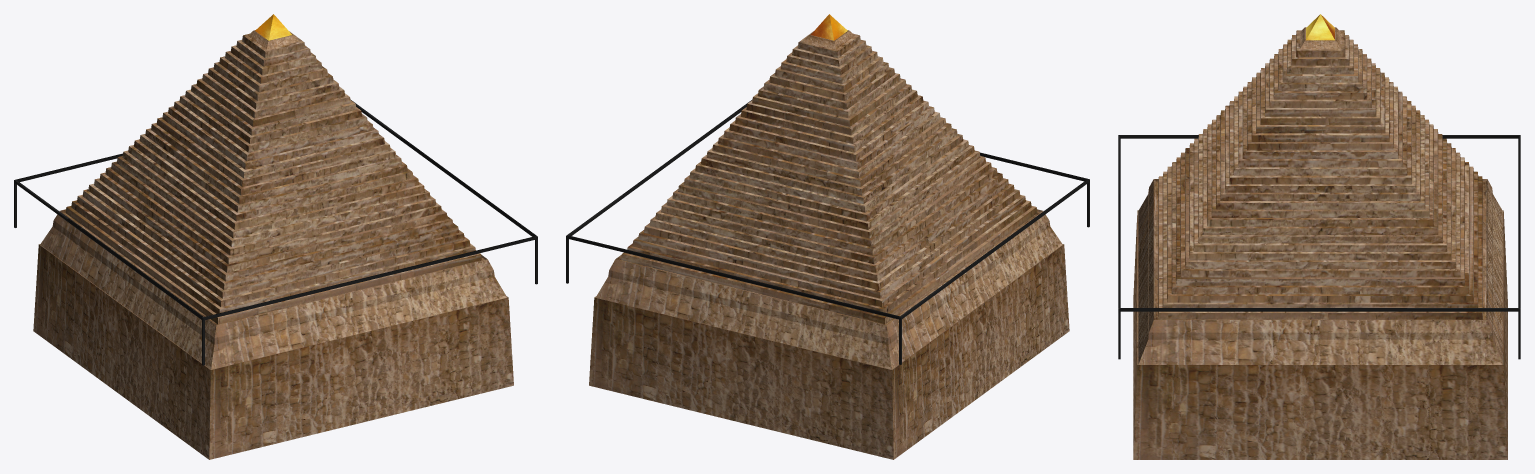
Rendered from egyptian_pyramid_with_barrieree.fbx.
3 renders of one model, left to right at view 1: azimuth 30°, elevation 25°; view 2: azimuth 150°, elevation 25°; view 3: azimuth 270°, elevation 25°, orthographic. The views are drawn at different scales.
Parts seen in each view (by area): view 1: Pyramid, Cube.007, Cube.008; view 2: Pyramid, Cube.007, Cube.008; view 3: Pyramid, Cube.007, Cube.008.
Part boxes in pixels (box(x1,y1,x2,y2)): Pyramid: box(33, 14, 513, 459); Cube.007: box(14, 153, 537, 365); Cube.008: box(350, 99, 536, 236); Pyramid: box(589, 14, 1069, 459); Cube.007: box(568, 152, 1089, 364); Cube.008: box(566, 99, 752, 283); Pyramid: box(1133, 14, 1507, 459); Cube.007: box(1118, 135, 1520, 359); Cube.008: box(1120, 308, 1520, 359).
Size of the model in its own units: 725 by 712 by 708.
4 materials, 2 textured.
